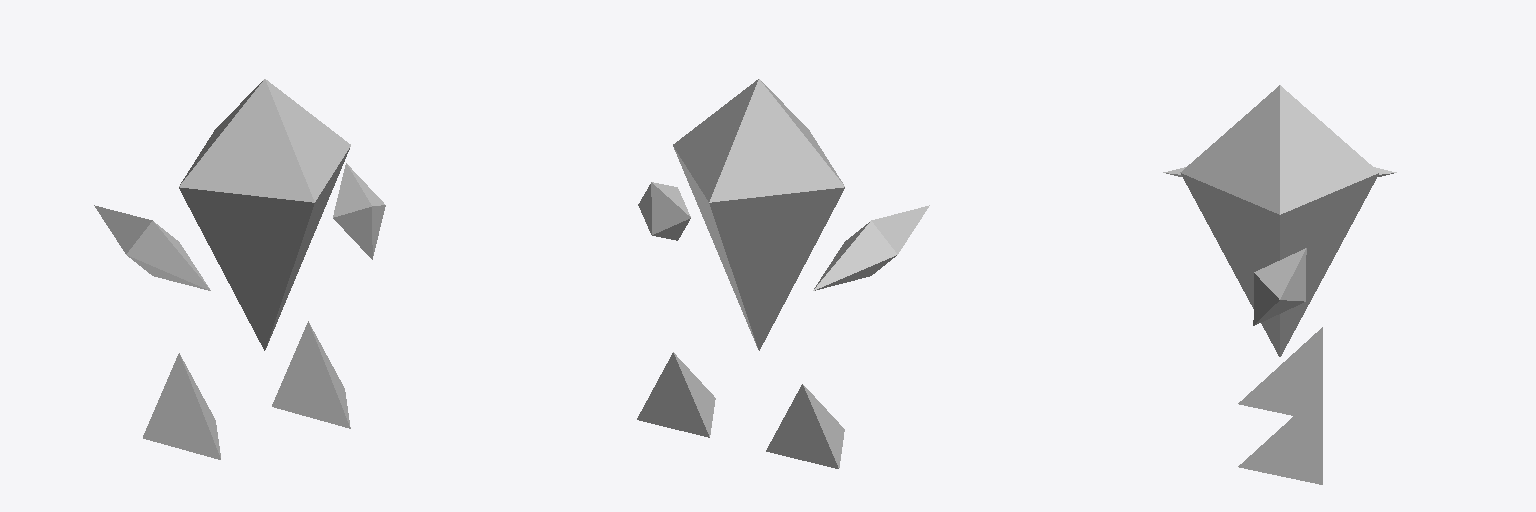
File: Player.obj
The picture shows the model from 3 angles: view 1: azimuth 30°, elevation 25°; view 2: azimuth 150°, elevation 25°; view 3: azimuth 270°, elevation 25°; orthographic projection.
Parts seen in each view (by area): view 1: 立方体.002; view 2: 立方体.002; view 3: 立方体.002.
Boxes of the visible parts, <box> form: 立方体.002: <box>94,79,385,459</box>; 立方体.002: <box>637,79,929,468</box>; 立方体.002: <box>1163,85,1396,484</box>.
Bounding box in the file's own units: 1.46 × 1.89 × 1.15.